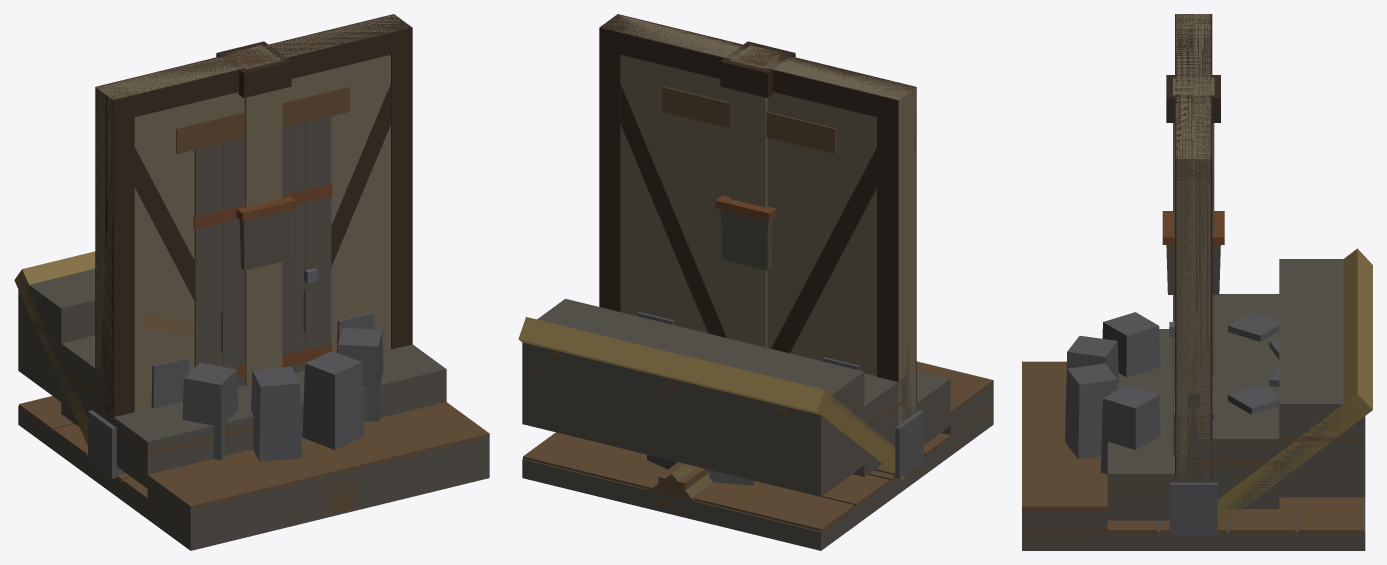
File: structure.gltf
3 renders of one model, left to right at view 1: azimuth 30°, elevation 25°; view 2: azimuth 150°, elevation 25°; view 3: azimuth 270°, elevation 25°, orthographic.
Visible parts, largest first — view 1: prop_house_wall_door, prop_house_stair, prop_house_wall_straight, prop_house_well, prop_house_wall_window, prop_house_floor, prop_house_corner, prop_house_roof_slope, prop_house_pillar, prop_fence_gate, prop_house_beam; view 2: prop_house_wall_door, prop_house_stair, prop_house_wall_straight, prop_house_wall_window, prop_house_floor, prop_house_roof_slope, prop_house_corner, prop_house_well, prop_house_pillar, prop_house_beam, prop_house_roof_ridge; view 3: prop_house_stair, prop_house_wall_door, prop_house_well, prop_house_floor, prop_house_roof_slope, prop_house_wall_straight, prop_house_corner, prop_house_pillar, prop_house_roof_gable.
Part boxes in pixels (left/top/right/bottom): prop_house_wall_door: left=88, top=14, right=412, bottom=478; prop_house_stair: left=18, top=269, right=489, bottom=531; prop_house_wall_straight: left=99, top=17, right=391, bottom=410; prop_house_well: left=151, top=196, right=383, bottom=461; prop_house_wall_window: left=98, top=15, right=392, bottom=411; prop_house_floor: left=18, top=396, right=489, bottom=550; prop_house_corner: left=227, top=45, right=282, bottom=385; prop_house_roof_slope: left=14, top=251, right=100, bottom=474; prop_house_pillar: left=216, top=41, right=291, bottom=97; prop_fence_gate: left=101, top=313, right=337, bottom=399; prop_house_beam: left=326, top=477, right=353, bottom=514; prop_house_wall_door: left=599, top=14, right=923, bottom=478; prop_house_stair: left=522, top=298, right=993, bottom=496; prop_house_wall_straight: left=619, top=16, right=908, bottom=366; prop_house_wall_window: left=617, top=15, right=902, bottom=375; prop_house_floor: left=522, top=404, right=993, bottom=550; prop_house_roof_slope: left=518, top=317, right=904, bottom=479; prop_house_corner: left=729, top=45, right=784, bottom=347; prop_house_well: left=637, top=195, right=859, bottom=485; prop_house_pillar: left=720, top=41, right=795, bottom=97; prop_house_beam: left=658, top=462, right=709, bottom=513; prop_house_roof_ridge: left=650, top=464, right=712, bottom=500; prop_house_stair: left=1022, top=259, right=1365, bottom=532; prop_house_wall_door: left=1169, top=14, right=1217, bottom=534; prop_house_well: left=1065, top=211, right=1281, bottom=498; prop_house_floor: left=1022, top=497, right=1365, bottom=550; prop_house_roof_slope: left=1217, top=248, right=1372, bottom=527; prop_house_wall_straight: left=1176, top=14, right=1210, bottom=158; prop_house_corner: left=1173, top=77, right=1214, bottom=409; prop_house_pillar: left=1166, top=75, right=1220, bottom=122; prop_house_roof_gable: left=1183, top=403, right=1203, bottom=482.
Bounding box in the file's own units: 2.06 × 2.53 × 2.04.
